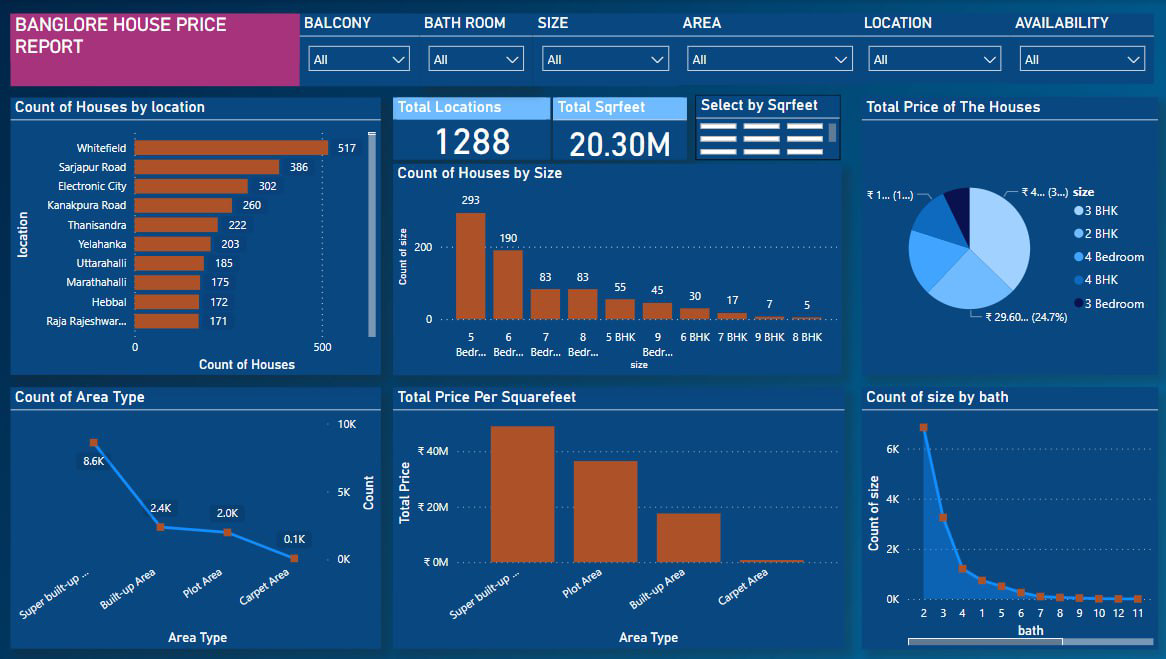

The page's visual inventory and layout, read from the dashboard file:
{"tool":"powerbi","page":{"name":"Page 1","canvas":[1280,720],"ordinal":0},"visuals":[{"type":"card","title":"Total Locations","fields":{"Values":["bengaluru_house_prices.TotalLocations"]},"box":[431.8,106.6,172.2,68.3],"z":0},{"type":"slicer","title":"AVAILABILITY","fields":{"Values":["bengaluru_house_prices.availability"]},"box":[1106.8,15,157.1,76.5],"z":1000},{"type":"slicer","title":"LOCATION","fields":{"Values":["bengaluru_house_prices.location"]},"box":[941.4,15,165.3,75.1],"z":2000},{"type":"slicer","title":"BATH ROOM","fields":{"Values":["bengaluru_house_prices.bath"]},"box":[460.5,15,124.3,79],"z":3000},{"type":"lineChart","title":"Count of Area Type","fields":{"Category":["bengaluru_house_prices.area_type"],"Y2":["CountNonNull(bengaluru_house_prices.area_type)"]},"box":[13.7,423.6,404.4,285.6],"z":4000},{"type":"slicer","title":"BALCONY","fields":{"Values":["bengaluru_house_prices.balcony"]},"box":[329.3,15,131.2,79.2],"z":5000},{"type":"columnChart","title":"Total Price Per Squarefeet","fields":{"Y":["Sum(bengaluru_house_prices.Price_Per_SqrFeet)"],"Category":["bengaluru_house_prices.area_type"]},"box":[431.8,423.6,493.3,285.6],"z":6000},{"type":"pieChart","title":"Total Price of The Houses","fields":{"Y":["Sum(bengaluru_house_prices.Price1)"],"Category":["bengaluru_house_prices.size"]},"box":[944.2,106.6,323.8,303.3],"z":7000},{"type":"card","title":"Total Sqrfeet","fields":{"Values":["bengaluru_house_prices.Total_Sqrfeet"]},"box":[606.7,106.6,146.2,68.3],"z":8000},{"type":"clusteredColumnChart","title":"Count of Houses by Size","fields":{"Category":["bengaluru_house_prices.size"],"Y":["CountNonNull(bengaluru_house_prices.size)"]},"box":[431.8,179,490.5,230.9],"z":9000},{"type":"slicer","title":"SIZE","fields":{"Values":["bengaluru_house_prices.size"]},"box":[584.8,15,158.5,79],"z":10000},{"type":"barChart","title":"Count of Houses by location","fields":{"Category":["bengaluru_house_prices.location"],"Y":["CountNonNull(bengaluru_house_prices.location)"]},"box":[13.7,106.6,404.4,303.3],"z":11000},{"type":"slicer","title":"AREA","fields":{"Values":["bengaluru_house_prices.area_type"]},"box":[743.3,15,200.9,77.9],"z":12000},{"type":"areaChart","fields":{"Category":["bengaluru_house_prices.bath"],"Y":["CountNonNull(bengaluru_house_prices.size)"]},"box":[944,424,324,286],"z":13000},{"type":"textbox","title":"BANGLORE HOUSE PRICE REPORT","box":[13.7,15,315.6,79],"z":14000},{"type":"advancedSlicerVisual","title":"Select by Sqrfeet","fields":{"Values":["bengaluru_house_prices.total_sqft"]},"box":[762.4,103.8,158.5,71.1],"z":15000}]}

Visuals, with their boxes in screenshot pixels (x1, y1, x2, y2), scaled from the page's 1280x720 canvas onto the 1166x659 screenshot:
"Total Locations" card: rect(393, 98, 550, 160)
"AVAILABILITY" slicer: rect(1008, 14, 1151, 84)
"LOCATION" slicer: rect(858, 14, 1008, 82)
"BATH ROOM" slicer: rect(419, 14, 533, 86)
"Count of Area Type" lineChart: rect(12, 388, 381, 649)
"BALCONY" slicer: rect(300, 14, 419, 86)
"Total Price Per Squarefeet" columnChart: rect(393, 388, 843, 649)
"Total Price of The Houses" pieChart: rect(860, 98, 1155, 375)
"Total Sqrfeet" card: rect(553, 98, 686, 160)
"Count of Houses by Size" clusteredColumnChart: rect(393, 164, 840, 375)
"SIZE" slicer: rect(533, 14, 677, 86)
"Count of Houses by location" barChart: rect(12, 98, 381, 375)
"AREA" slicer: rect(677, 14, 860, 85)
areaChart - bengaluru_house_prices.bath x CountNonNull(bengaluru_house_prices.size): rect(860, 388, 1155, 650)
"BANGLORE HOUSE PRICE REPORT" textbox: rect(12, 14, 300, 86)
"Select by Sqrfeet" advancedSlicerVisual: rect(694, 95, 839, 160)
